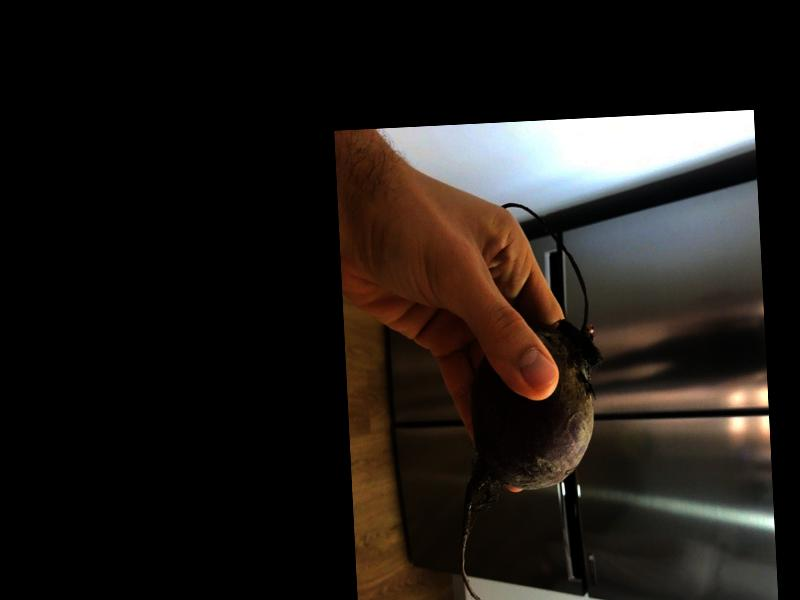Beet: (442, 199, 611, 600)
